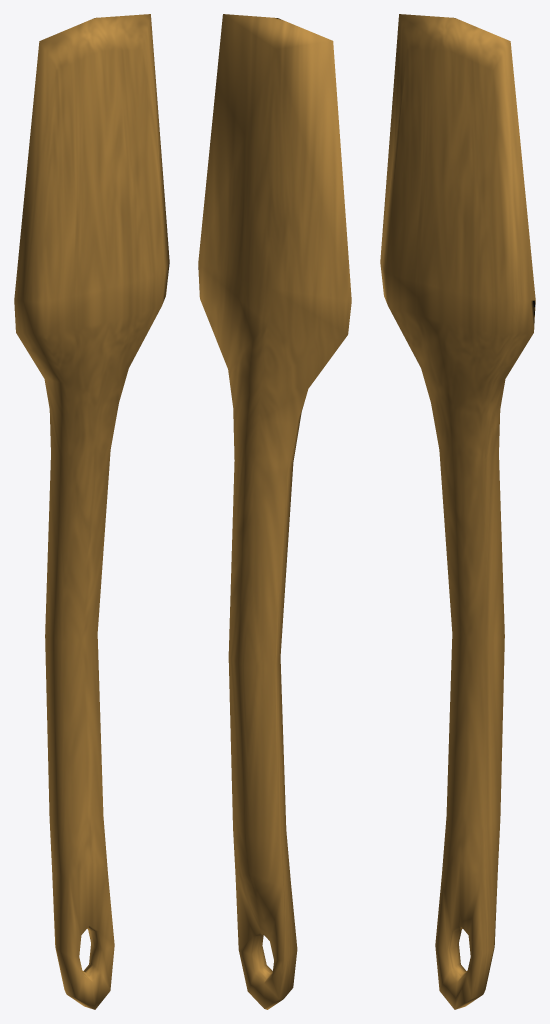
Rendered from ustensils2.glb.
3 renders of one model, left to right at view 1: azimuth 30°, elevation 25°; view 2: azimuth 150°, elevation 25°; view 3: azimuth 330°, elevation 25°, orthographic.
Visible parts, largest first — view 1: ustensils2; view 2: ustensils2; view 3: ustensils2.
Boxes of the visible parts, bbox=[...] form: ustensils2: bbox=[14, 14, 169, 1009]; ustensils2: bbox=[198, 14, 351, 1009]; ustensils2: bbox=[380, 14, 535, 1009].
Bounding box in the file's own units: 0.0968 × 0.5928 × 0.0481.
1 material, 1 textured.
